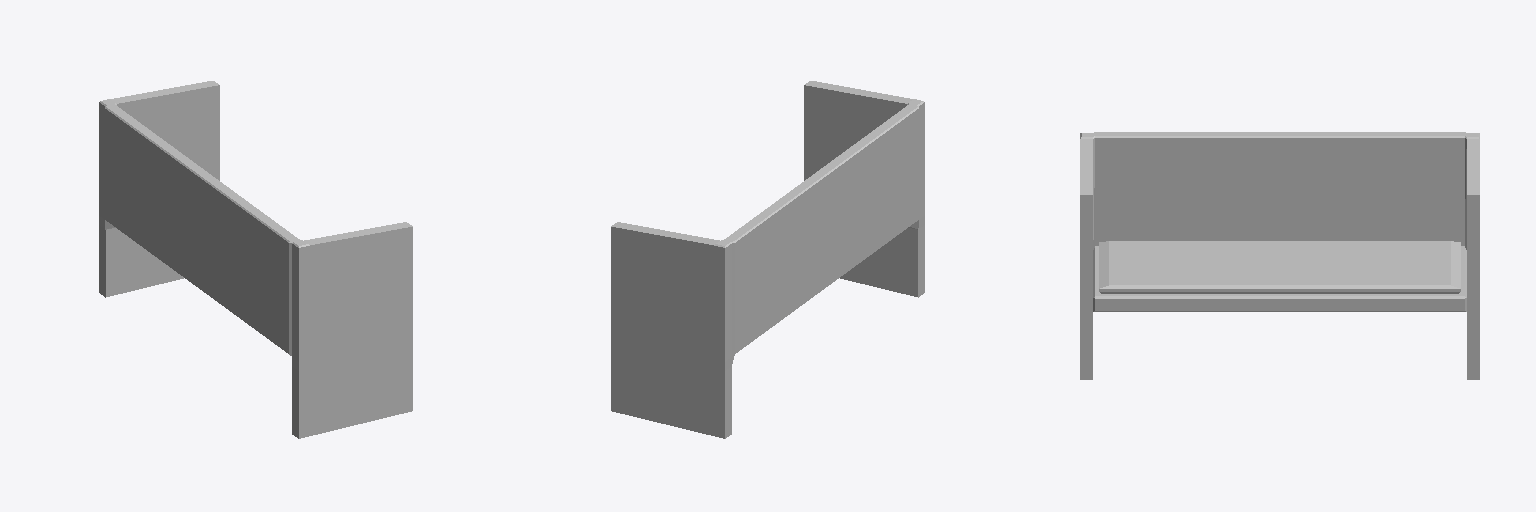
The model's file is Church pew.obj.
The picture shows the model from 3 angles: view 1: azimuth 30°, elevation 25°; view 2: azimuth 150°, elevation 25°; view 3: azimuth 270°, elevation 25°; orthographic projection.
Parts seen in each view (by area): view 1: pCube9; view 2: pCube9; view 3: pCube9.
Boxes of the visible parts, x1=… form: pCube9: x1=99, y1=81, x2=412, y2=438; pCube9: x1=611, y1=81, x2=924, y2=438; pCube9: x1=1080, y1=132, x2=1479, y2=379.
Bounding box in the file's own units: 2.84 × 4.41 × 8.3.